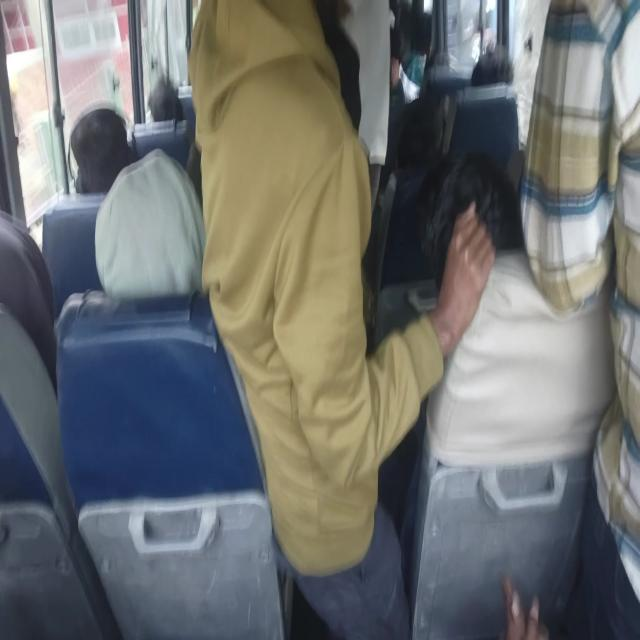person: (200, 0, 364, 371), (531, 3, 640, 547), (106, 159, 200, 287), (335, 0, 394, 176), (433, 165, 524, 274), (0, 205, 45, 347), (64, 106, 129, 189), (318, 0, 373, 96), (393, 87, 444, 160), (472, 51, 514, 101), (149, 78, 186, 118), (388, 49, 423, 85), (416, 15, 441, 50)
